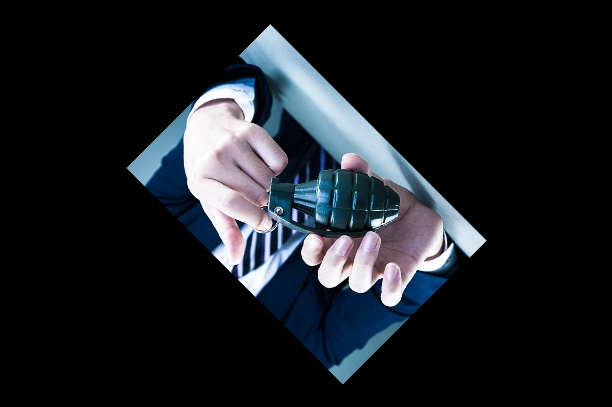e1: (246, 160, 402, 246)
